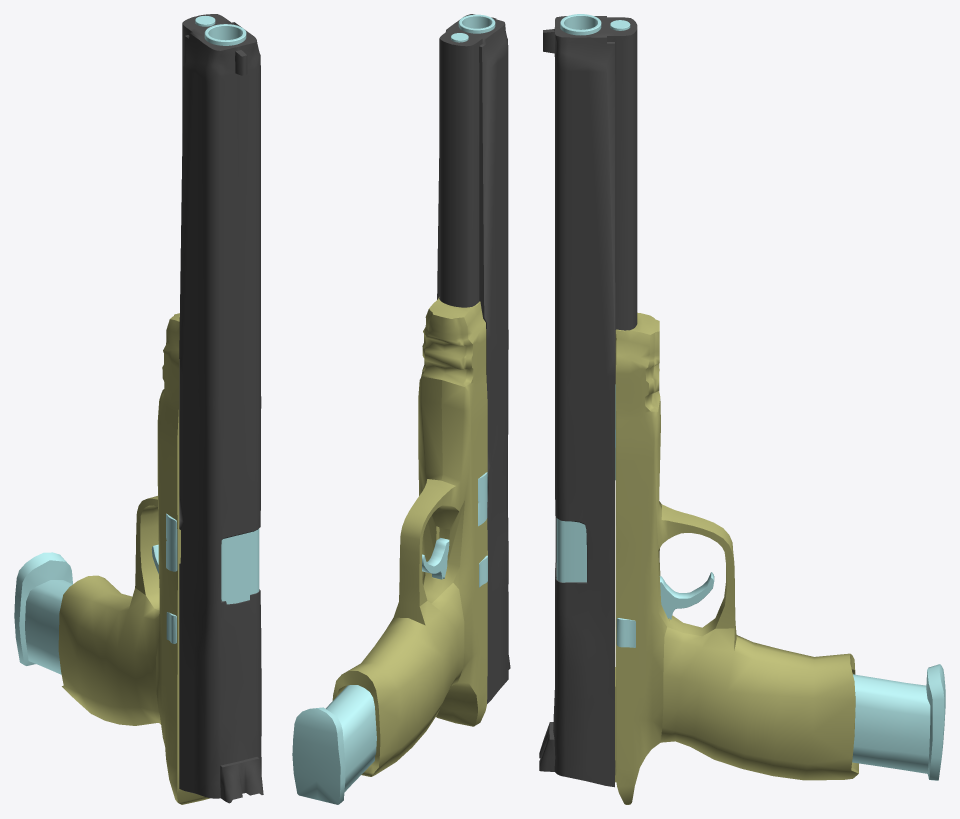
The model's file is PGM.fbx.
The picture shows the model from 3 angles, left to right: view 1: azimuth 30°, elevation 25°; view 2: azimuth 150°, elevation 25°; view 3: azimuth 270°, elevation 25°; orthographic projection. The views are drawn at different scales.
Visible parts, largest first — view 1: Base; view 2: Base; view 3: Base.
Boxes of the visible parts, x1,y1,x2,y2 form: Base: [14, 14, 263, 804]; Base: [292, 14, 510, 804]; Base: [539, 14, 945, 804].
Size of the model in its own units: 3.72e-07 by 4.1e-06 by 1.95e-06.
